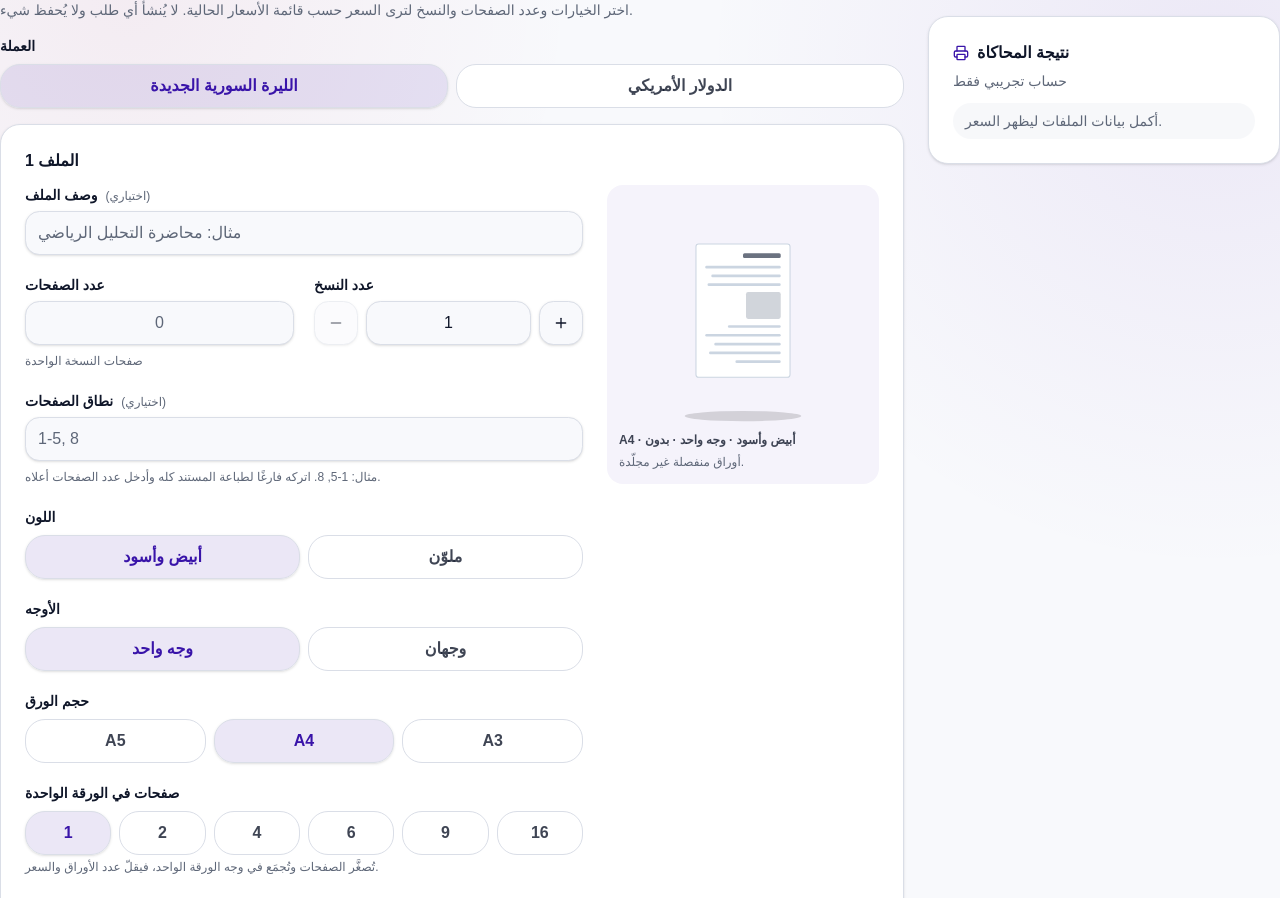
it: pricing simulator › quotes the typed options without creating anything
The image size is (1280, 898).
In the field labelled "عدد الصفحات": (160,323) [25,301,294,345], type "10"
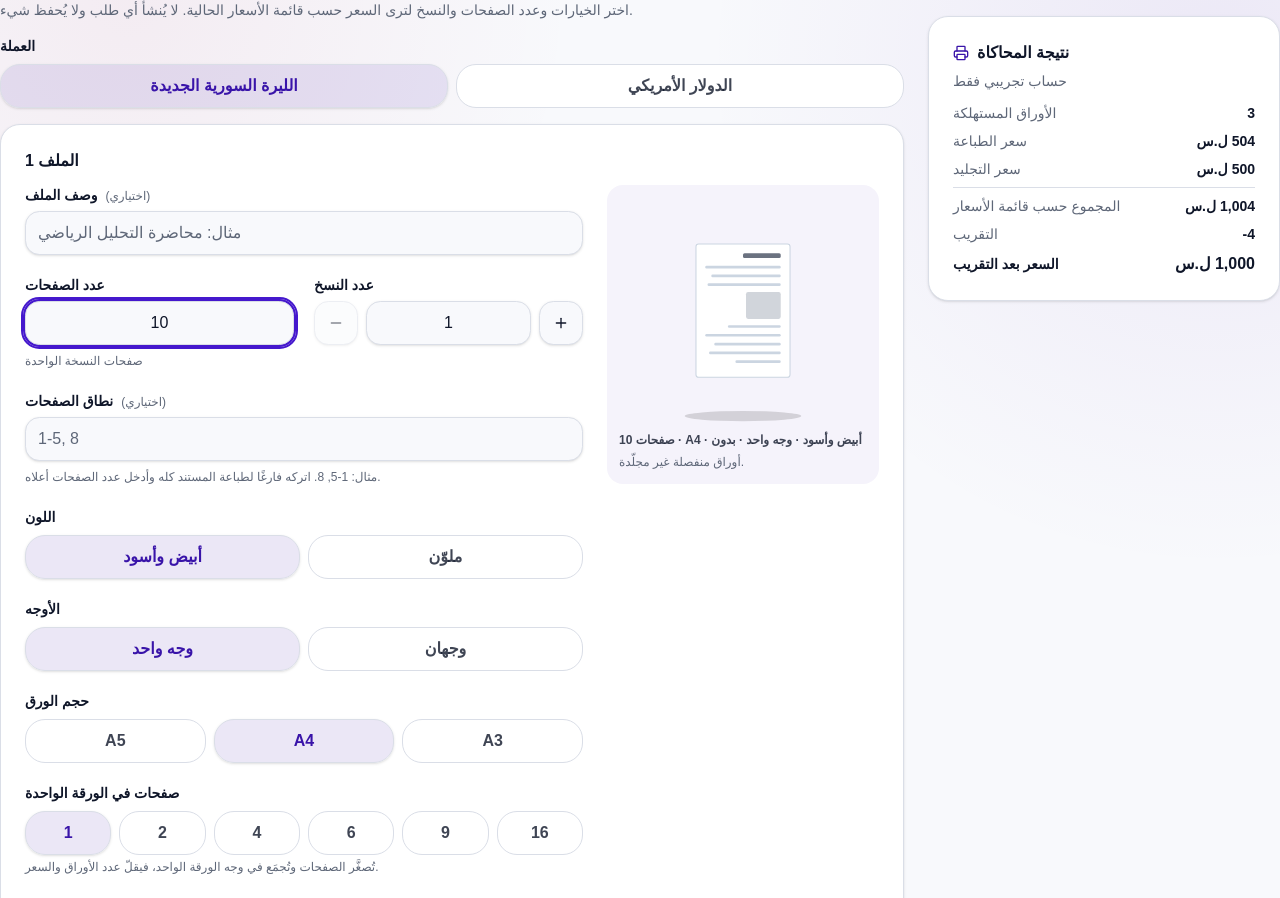
Result: the text "السعر بعد التقريب" is shown at [953,254,1059,274]
